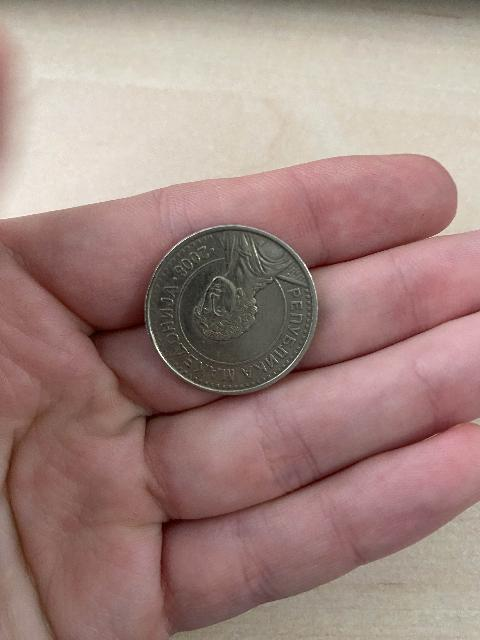50_coin: (145, 226, 317, 394)
